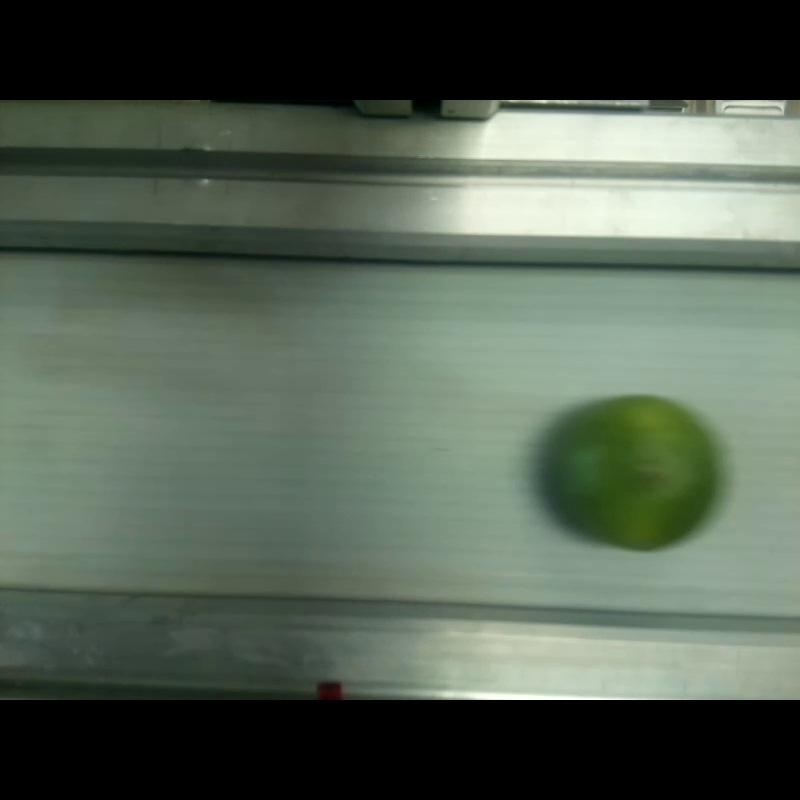lime: (550, 397, 715, 550)
